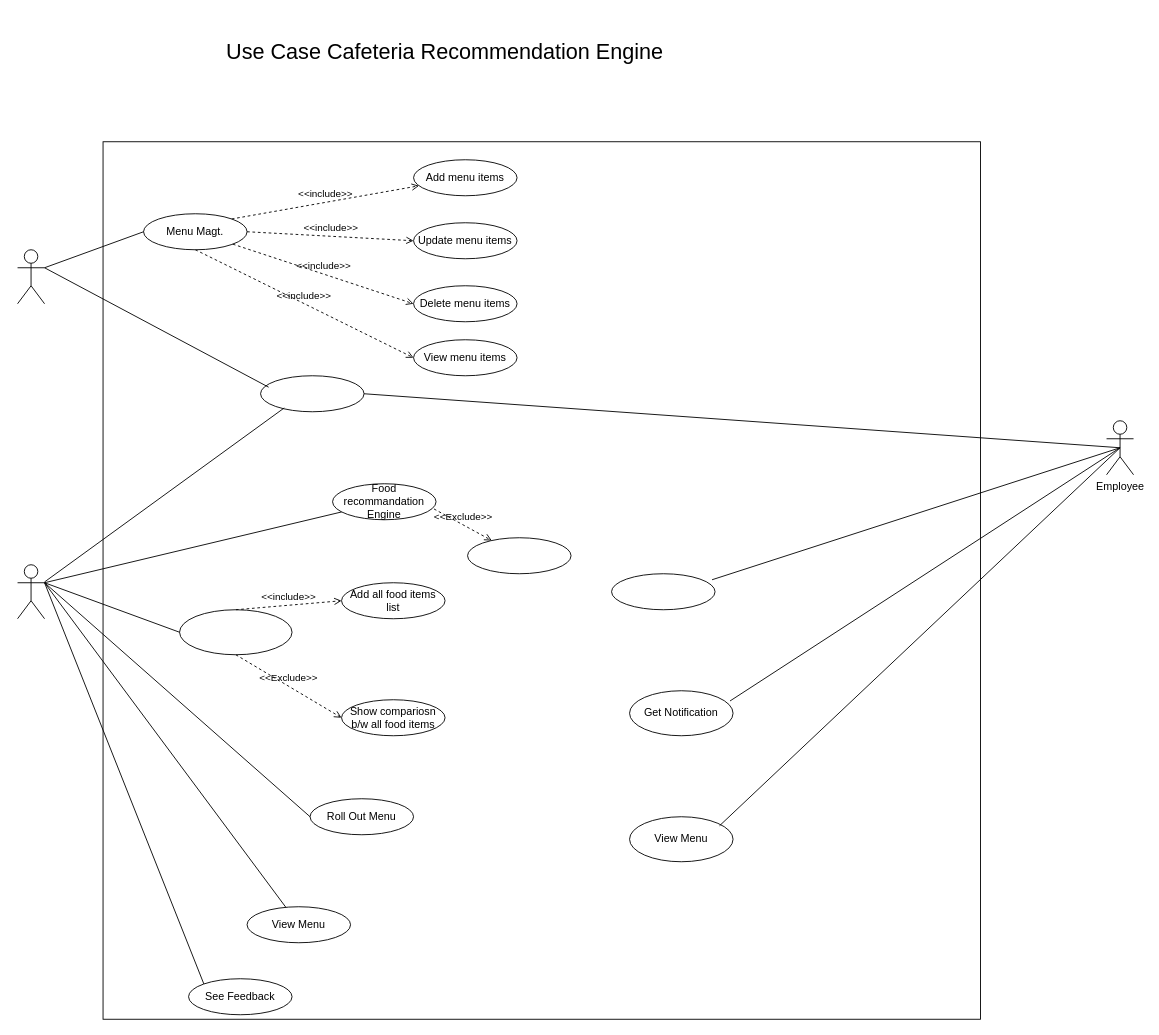
Image size: 1159x1035. Some labels were removed from this diagram. Here are the shapes that lost their labels. From the top down, the box of each, then its label:
(17, 249, 45, 304): Admin
(260, 375, 364, 412): User Authentication
(467, 537, 571, 574): Place order
(17, 564, 45, 619): Chef
(611, 573, 715, 610): Give Feedback
(179, 609, 292, 655): Generate Monthly Report
